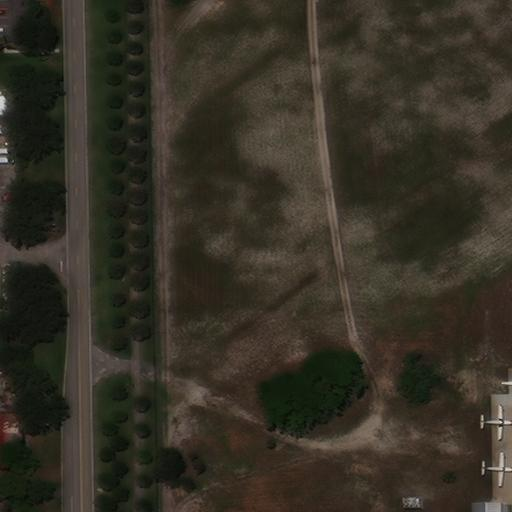Small Civil Transport: (479, 404, 511, 440), (479, 453, 511, 488)
